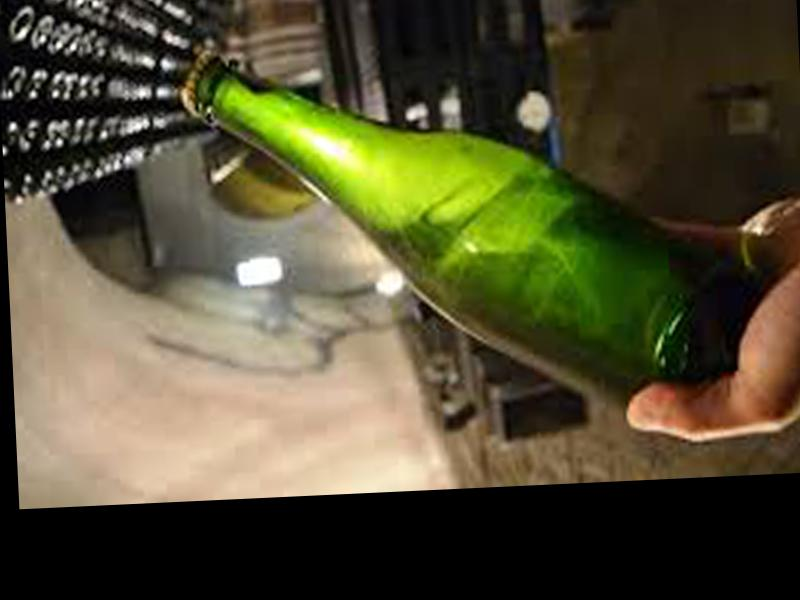Beer: (177, 18, 760, 444)
